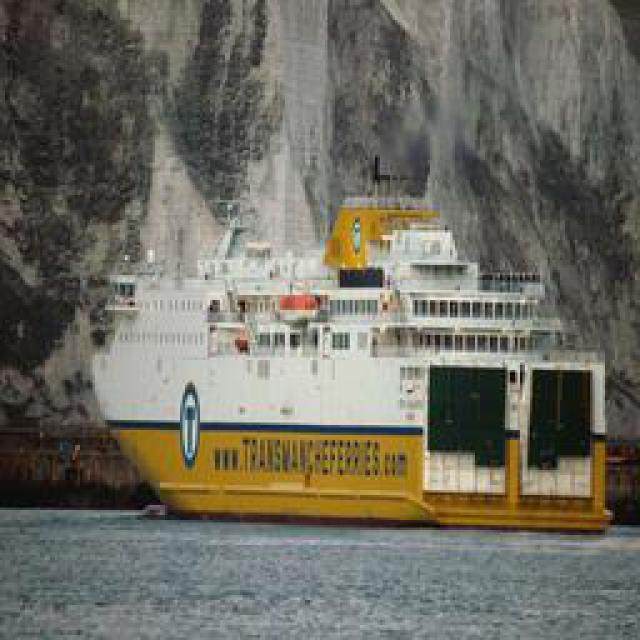Ship: (97, 172, 615, 530)
